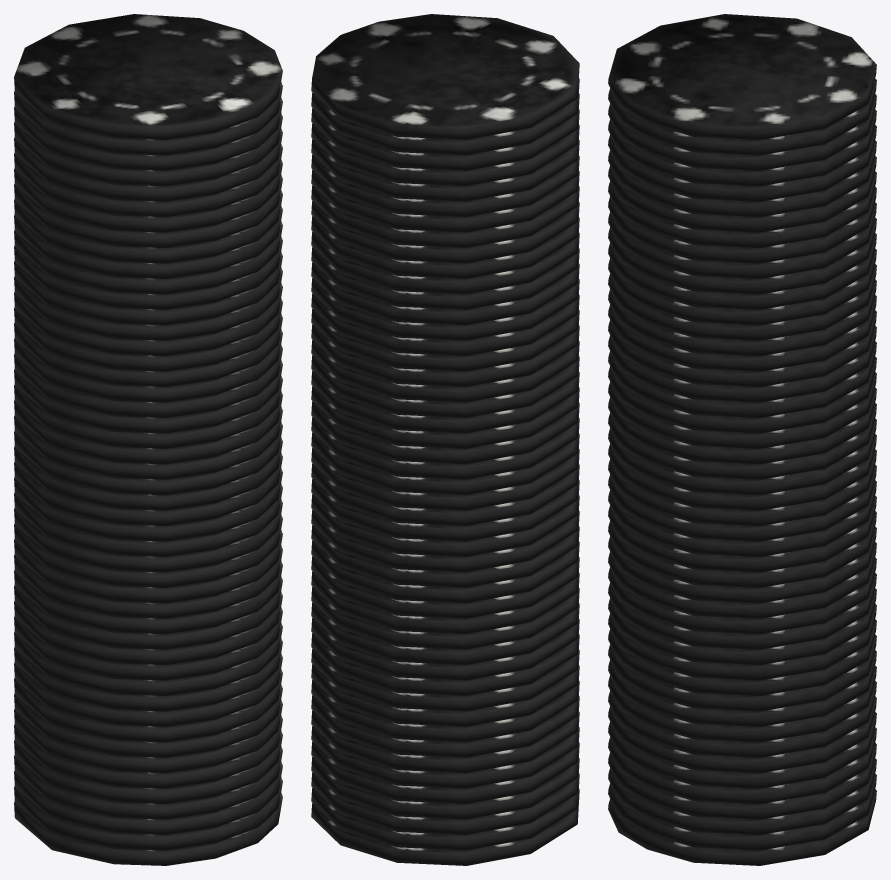
Rendered from Coin.fbx_Collection_PokerChip_Black.fbx.
3 views of the same model, side by side, from view 1: azimuth 30°, elevation 25°; view 2: azimuth 150°, elevation 25°; view 3: azimuth 270°, elevation 25° (orthographic).
Parts seen in each view (by area): view 1: PokerChip_Black; view 2: PokerChip_Black; view 3: PokerChip_Black.
Boxes of the visible parts, x1=… form: PokerChip_Black: x1=14, y1=14, x2=282, y2=865; PokerChip_Black: x1=311, y1=14, x2=579, y2=865; PokerChip_Black: x1=608, y1=14, x2=876, y2=865.
Size of the model in its own units: 15.75 by 47.82 by 15.78.
